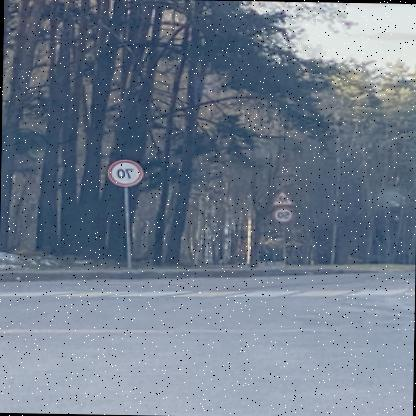speedlimit: (108, 158, 144, 184), (276, 208, 295, 222)
